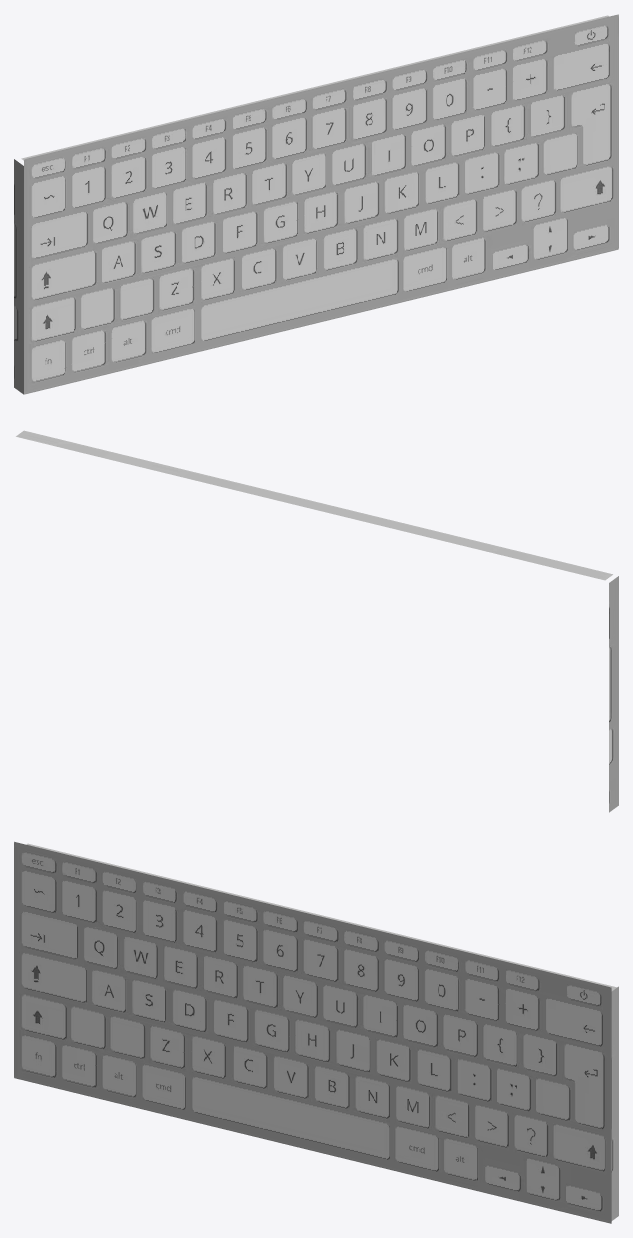
Rendered from Keyboard.gltf.
3 views of the same model, one above another, from view 1: azimuth 30°, elevation 25°; view 2: azimuth 150°, elevation 25°; view 3: azimuth 330°, elevation 25° (orthographic).
Parts seen in each view (by area): view 1: default; view 2: default; view 3: default.
Boxes of the visible parts, bbox=[...] form: default: bbox=[14, 14, 618, 394]; default: bbox=[16, 430, 618, 812]; default: bbox=[14, 841, 618, 1223].
Bounding box in the file's own units: 41.19 × 15.56 × 1.19.
Materials: 1 (1 with a texture image).
